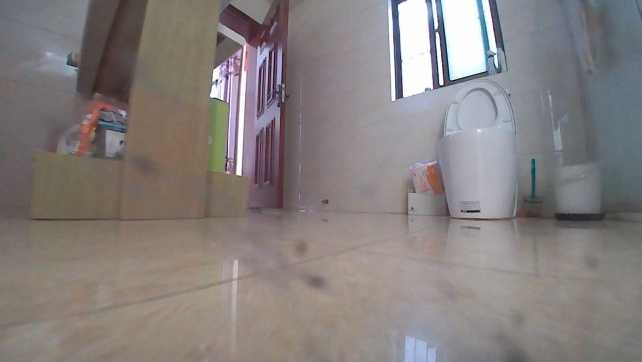door_anno: (242, 3, 292, 211)
toilet: (432, 74, 520, 221)
trash_can: (546, 150, 601, 223)
